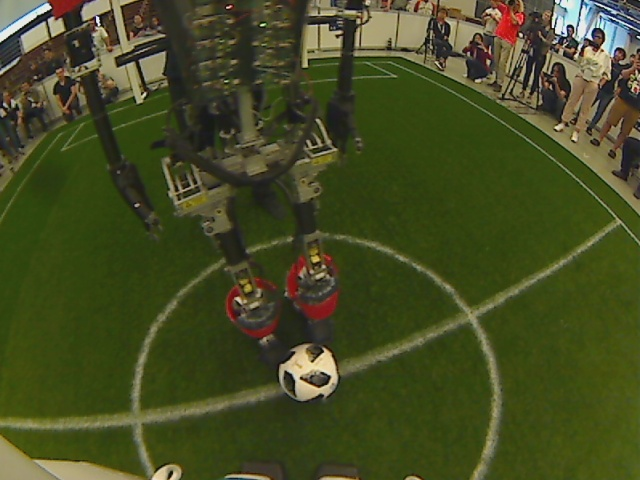ball: (277, 343, 339, 404)
goalpost: (120, 87, 151, 111), (300, 56, 312, 74)
robot: (247, 297, 346, 367)
